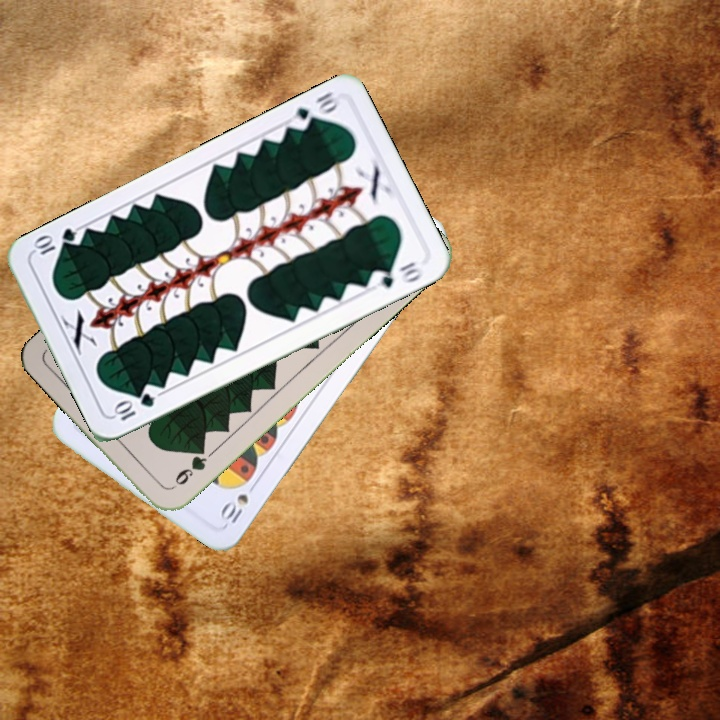G10: (285, 87, 341, 133), (110, 389, 158, 424)
G9: (167, 443, 210, 492)
S10: (216, 477, 261, 526)
